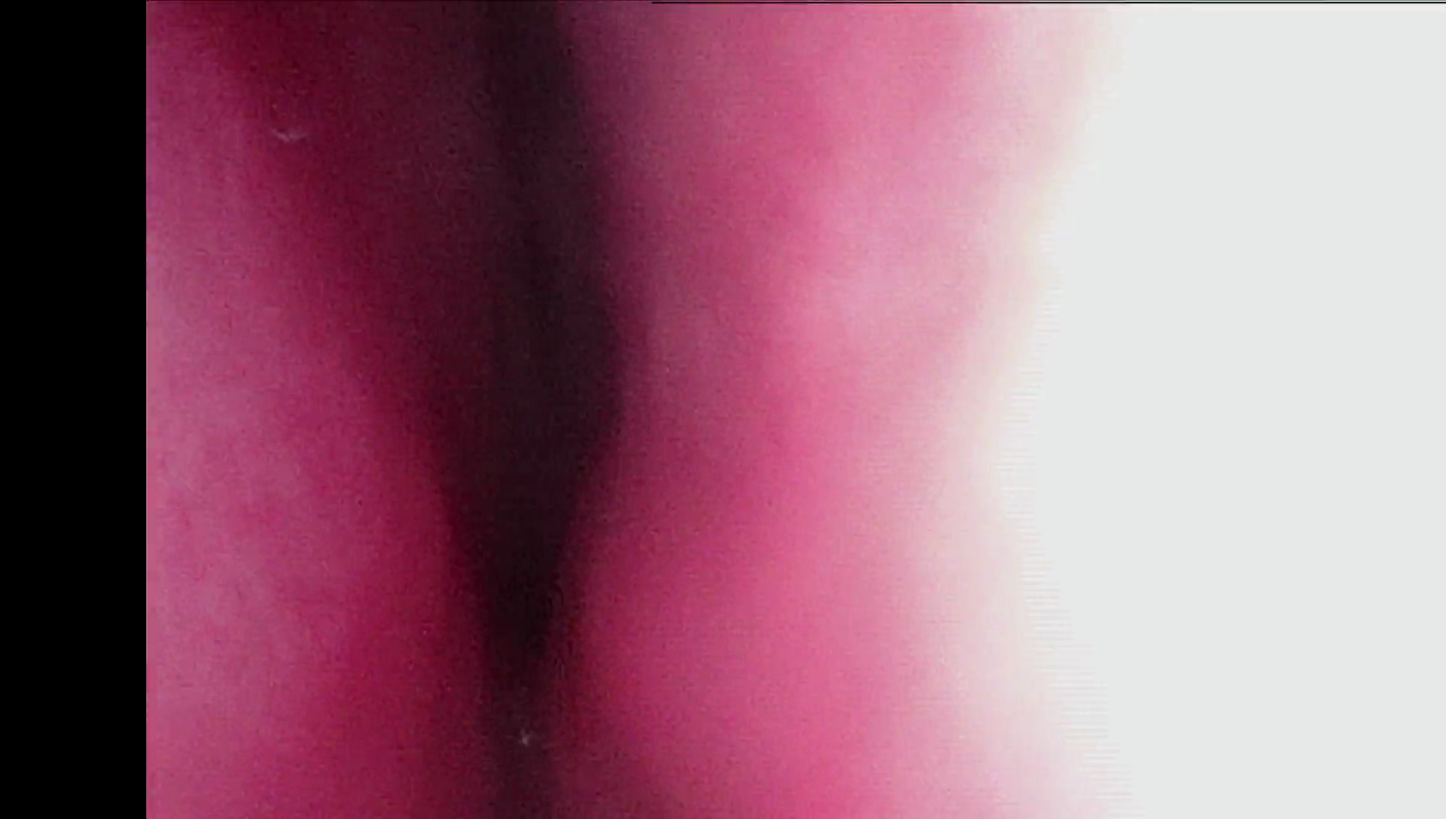close_wall: (760, 8, 1446, 819)
next: (447, 191, 655, 698)
